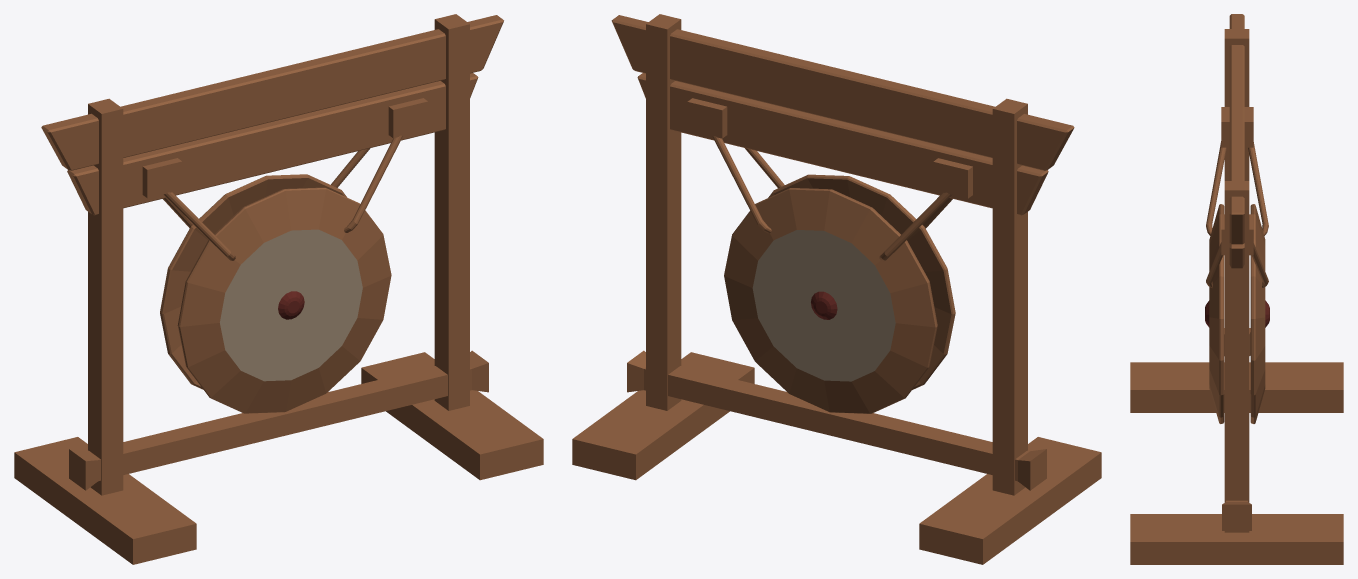
Rendered from Gonge_1.fbx.
3 renders of one model, left to right at view 1: azimuth 30°, elevation 25°; view 2: azimuth 150°, elevation 25°; view 3: azimuth 270°, elevation 25°, orthographic. The views are drawn at different scales.
Visible parts, largest first — view 1: Gonge_1; view 2: Gonge_1; view 3: Gonge_1.
Part boxes in pixels (bbox=[...]): Gonge_1: bbox=[14, 14, 543, 564]; Gonge_1: bbox=[572, 14, 1101, 564]; Gonge_1: bbox=[1130, 14, 1343, 564].
Bounding box in the file's own units: 203 × 173 × 91.59.
